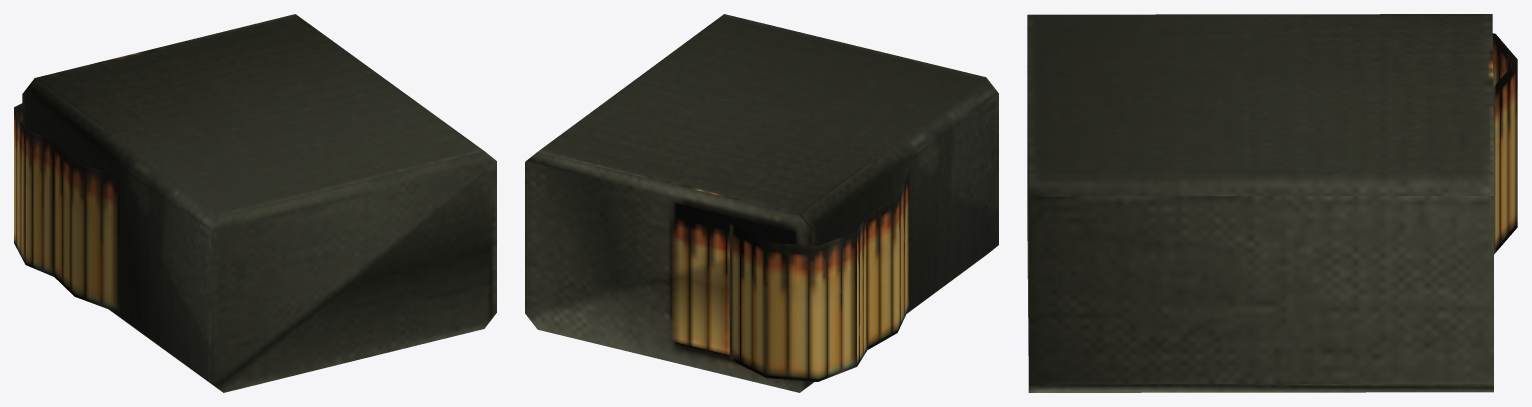
File: M60_Mag.fbx
The picture shows the model from 3 angles, left to right: view 1: azimuth 30°, elevation 25°; view 2: azimuth 150°, elevation 25°; view 3: azimuth 270°, elevation 25°; orthographic projection. The views are drawn at different scales.
Parts seen in each view (by area): view 1: M60_Mag; view 2: M60_Mag; view 3: M60_Mag.
Part boxes in pixels (x1=…): M60_Mag: x1=14, y1=14, x2=496, y2=392; M60_Mag: x1=525, y1=14, x2=998, y2=392; M60_Mag: x1=1027, y1=14, x2=1517, y2=392.
Size of the model in its own units: 0.0887 by 0.0986 by 0.0489.
